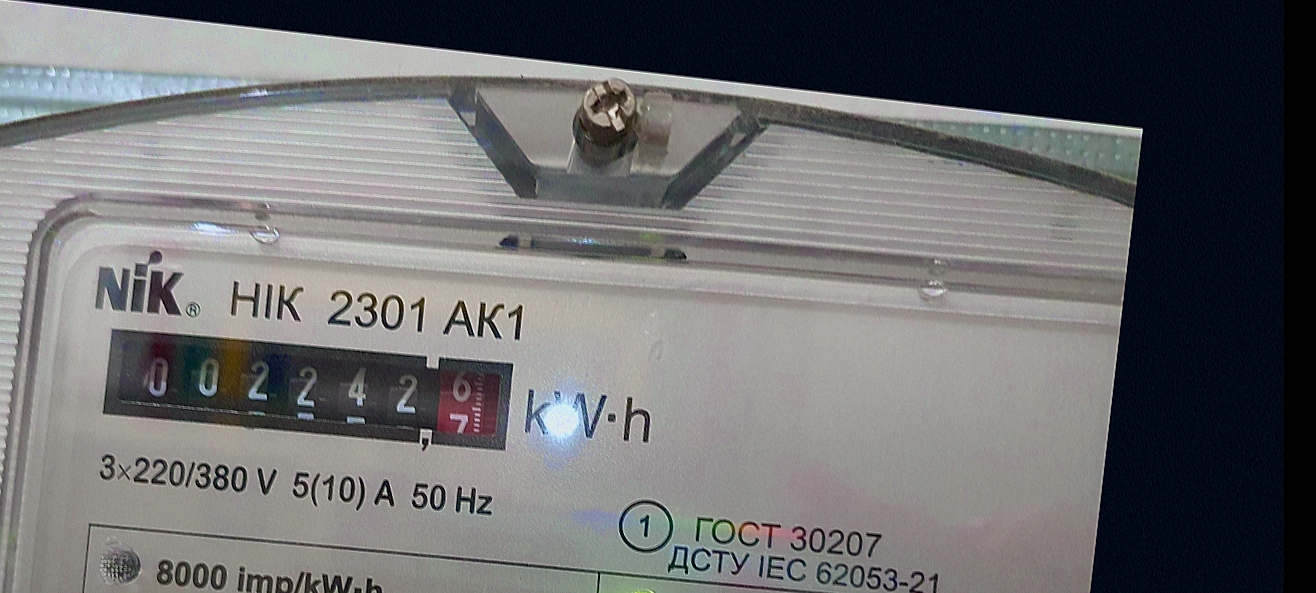0: (192, 352, 222, 397), (143, 352, 171, 398), (244, 357, 272, 401)
2: (292, 362, 321, 408), (391, 369, 420, 415)
4: (342, 362, 370, 408)
6: (447, 367, 475, 403)
7: (444, 409, 469, 434)
screen: (89, 305, 531, 475)
